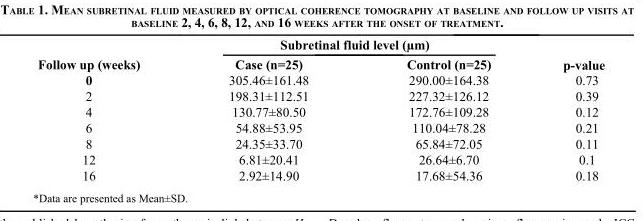table: (36, 36, 604, 182)
table column: (183, 36, 357, 182), (357, 36, 526, 182), (36, 36, 183, 182), (526, 36, 604, 182)
table column header: (36, 36, 604, 71)
table row: (36, 53, 604, 71), (36, 36, 604, 53), (36, 71, 604, 87), (36, 87, 604, 103), (36, 103, 604, 119), (36, 119, 604, 135), (36, 135, 604, 151), (36, 151, 604, 167), (36, 167, 604, 182)
table spanning cell: (183, 36, 526, 53), (36, 36, 183, 71), (526, 36, 604, 71)
